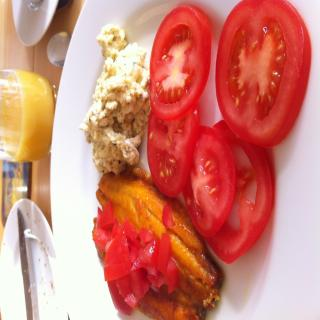tomato: (215, 0, 308, 151), (204, 120, 270, 267), (148, 3, 212, 122), (177, 124, 237, 239), (147, 102, 197, 197)
